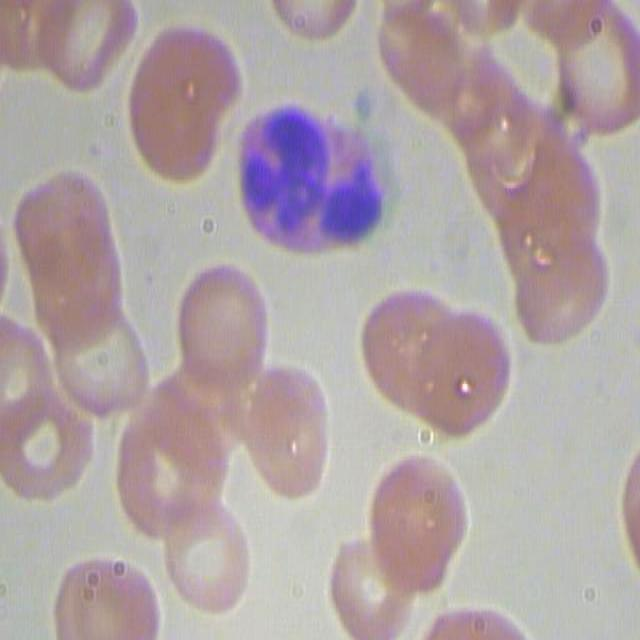RBC: (17, 162, 139, 430), (355, 290, 509, 442), (502, 140, 612, 345), (127, 18, 241, 183), (111, 376, 222, 540), (175, 253, 276, 419), (36, 300, 150, 430), (232, 359, 332, 499), (367, 447, 466, 588), (546, 1, 638, 149), (454, 91, 553, 220), (372, 2, 482, 118), (5, 0, 132, 91), (1, 382, 92, 508), (158, 500, 252, 616), (326, 536, 413, 638), (53, 558, 161, 640), (268, 0, 364, 45), (414, 609, 543, 640)
WBC: (238, 98, 386, 255)
